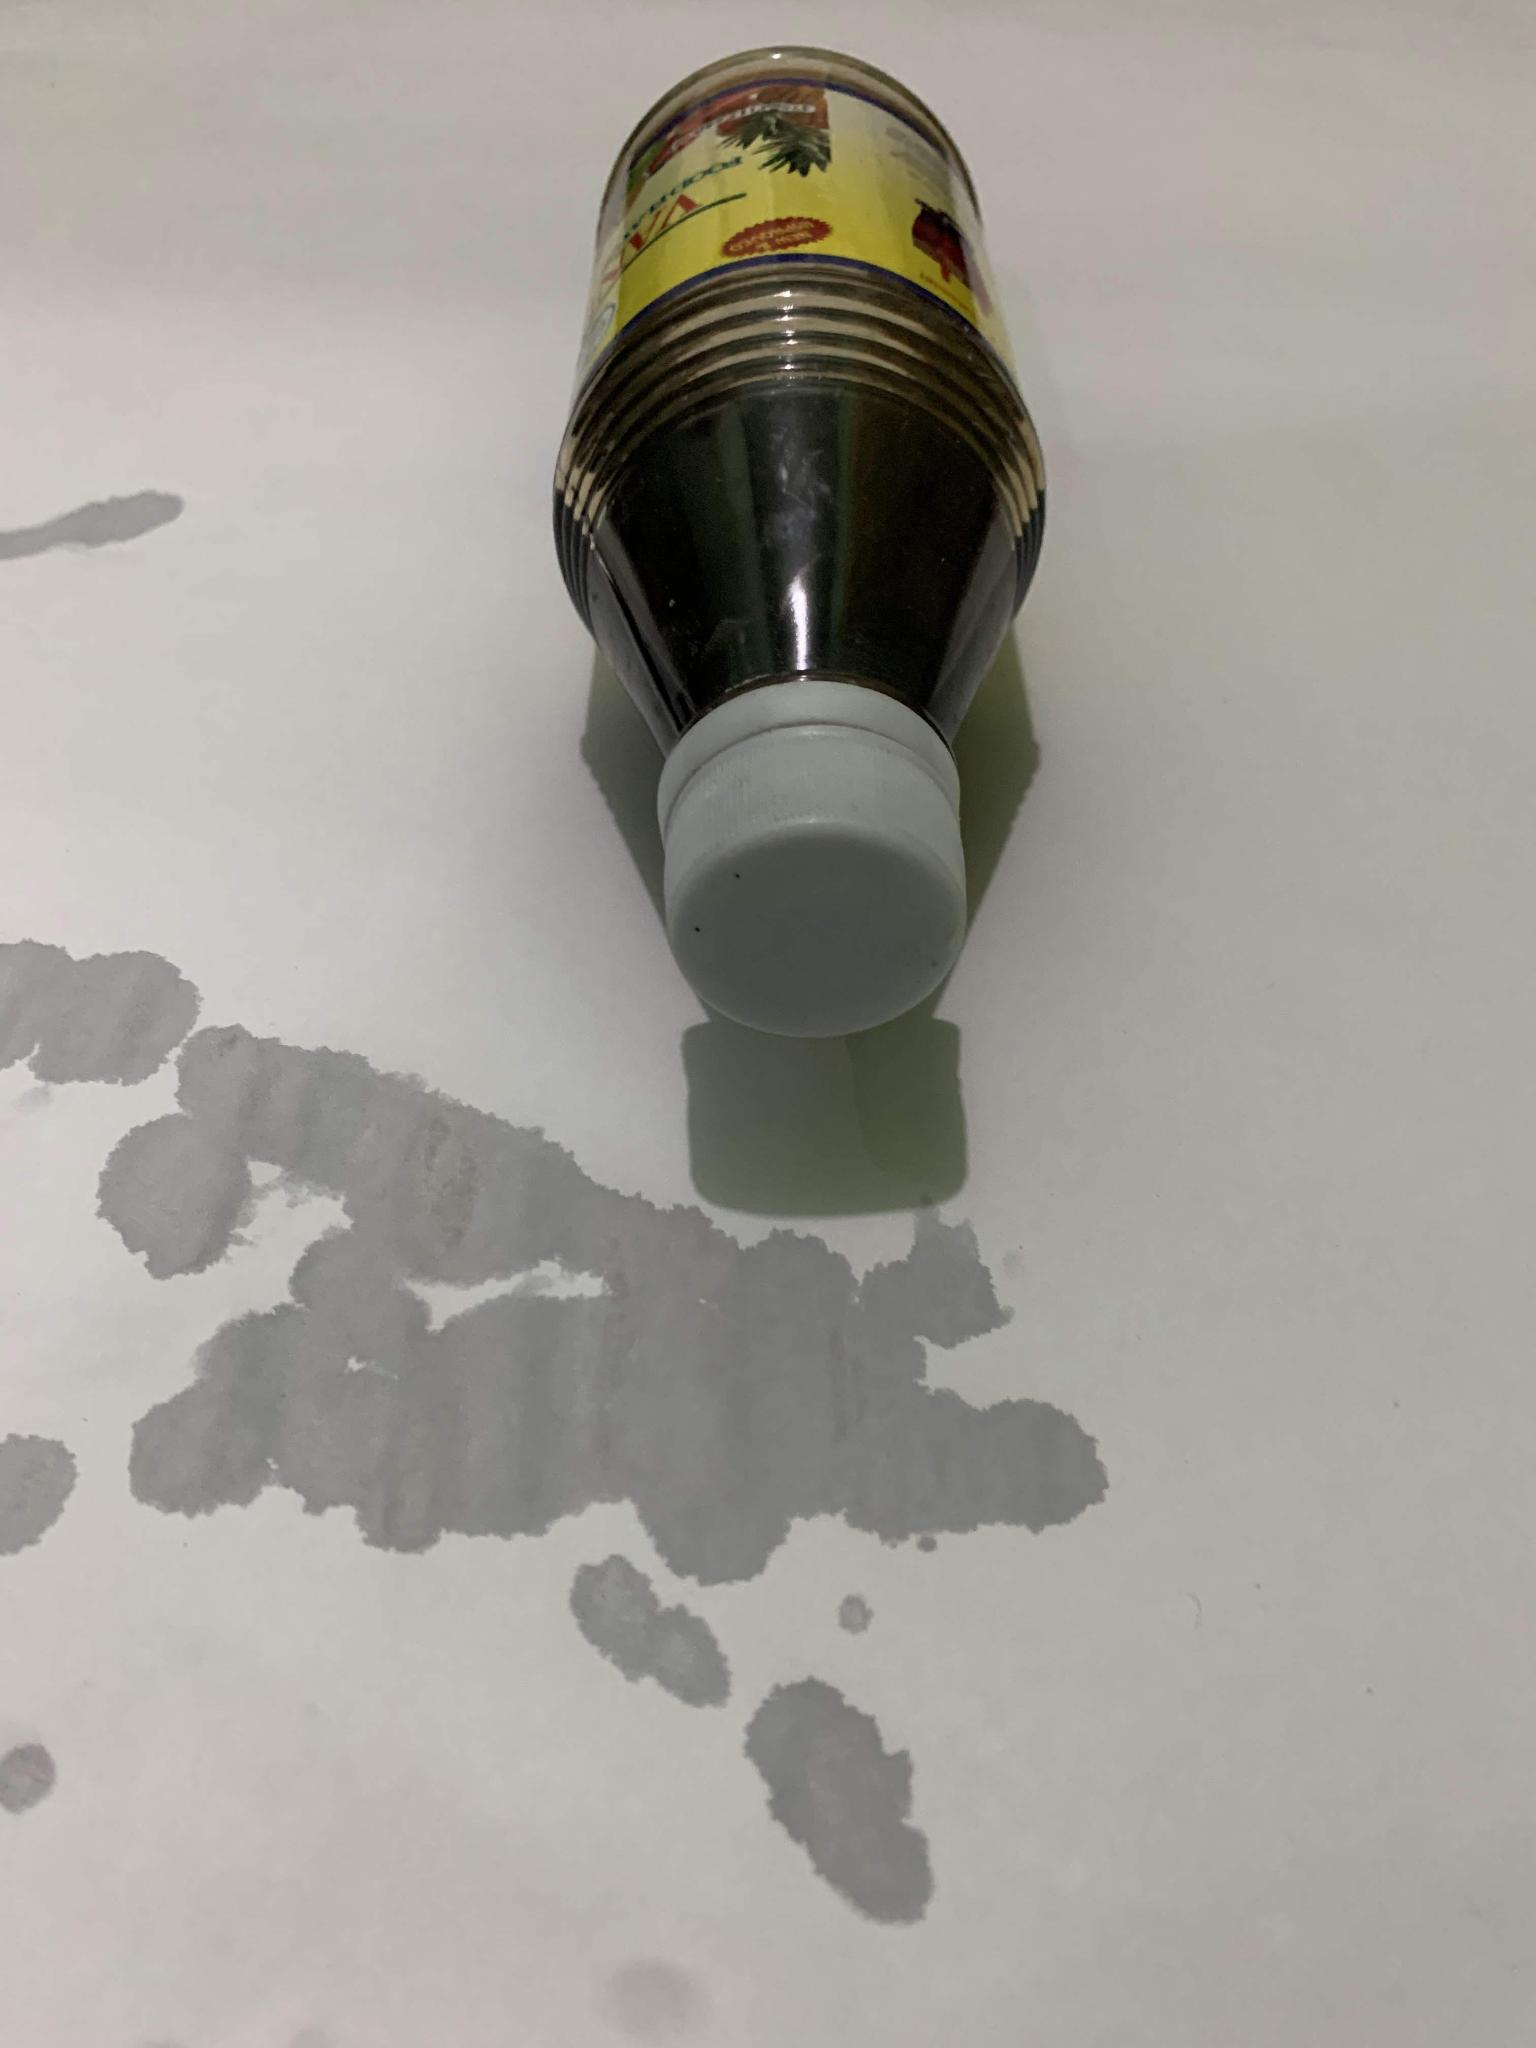bottle: (532, 30, 1080, 1132)
